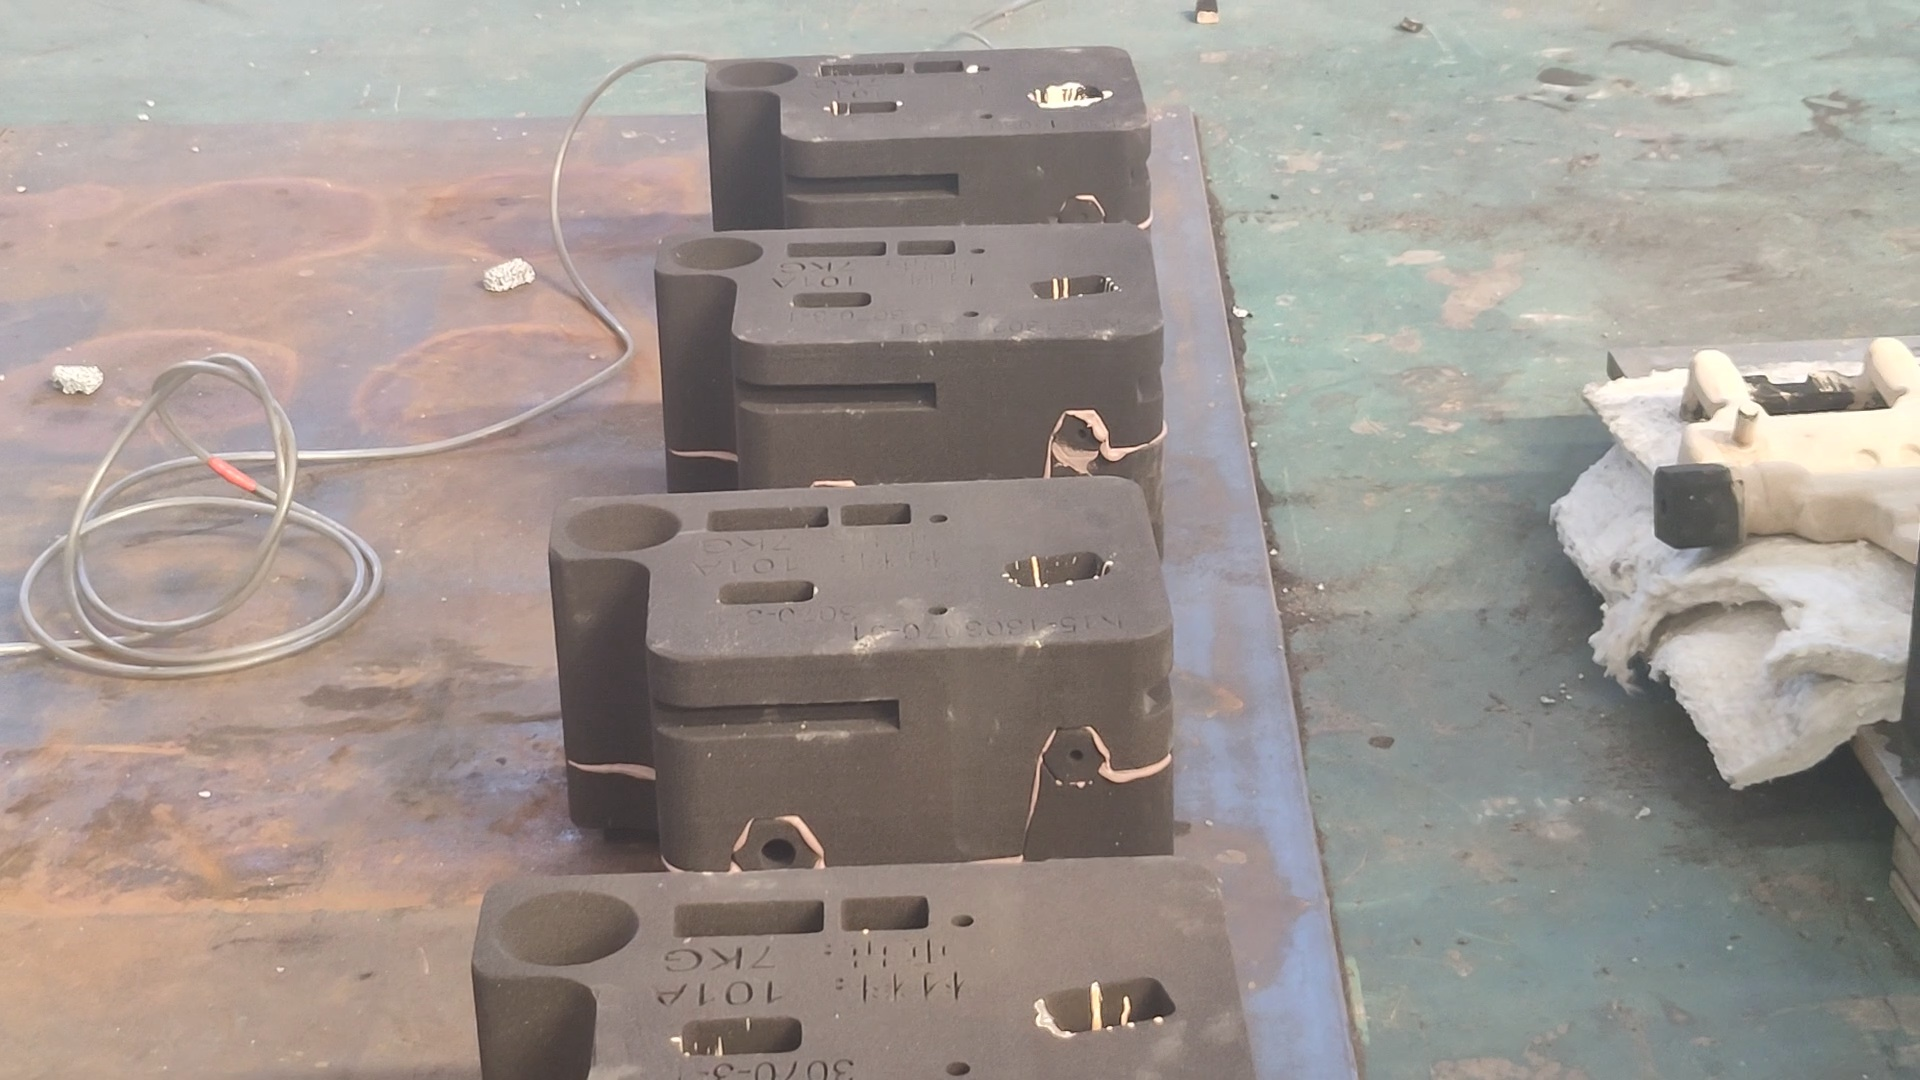pouring hole: (493, 890, 640, 967), (564, 502, 682, 553), (669, 237, 764, 272), (713, 62, 799, 86)
